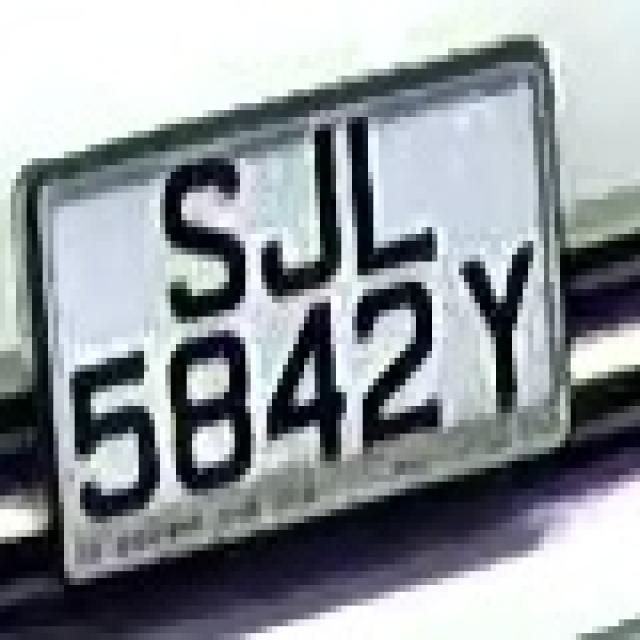2: (352, 248, 443, 468)
4: (245, 303, 368, 502)
5: (69, 330, 171, 550)
8: (154, 316, 266, 502)
J: (229, 110, 347, 324)
L: (331, 83, 437, 282)
S: (149, 131, 251, 330)
Y: (448, 213, 555, 454)
